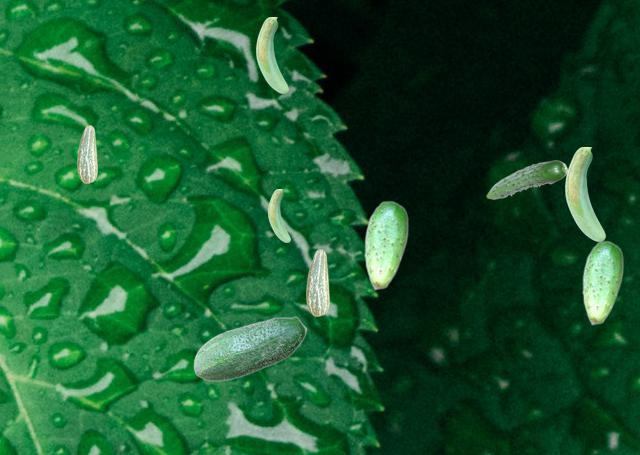cucumber: (193, 316, 306, 380), (364, 200, 407, 289), (565, 147, 604, 240), (582, 240, 622, 324), (486, 160, 567, 198), (256, 17, 287, 92), (306, 249, 328, 315), (268, 189, 289, 241), (77, 125, 96, 182)
